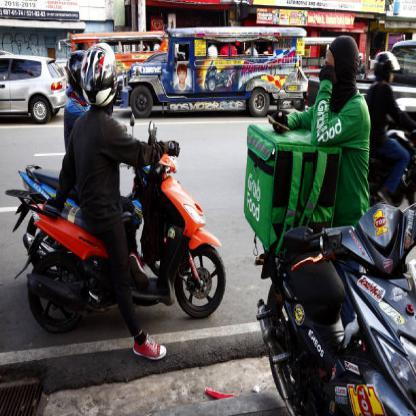Motorcycle: (22, 152, 227, 327), (261, 214, 416, 415)
